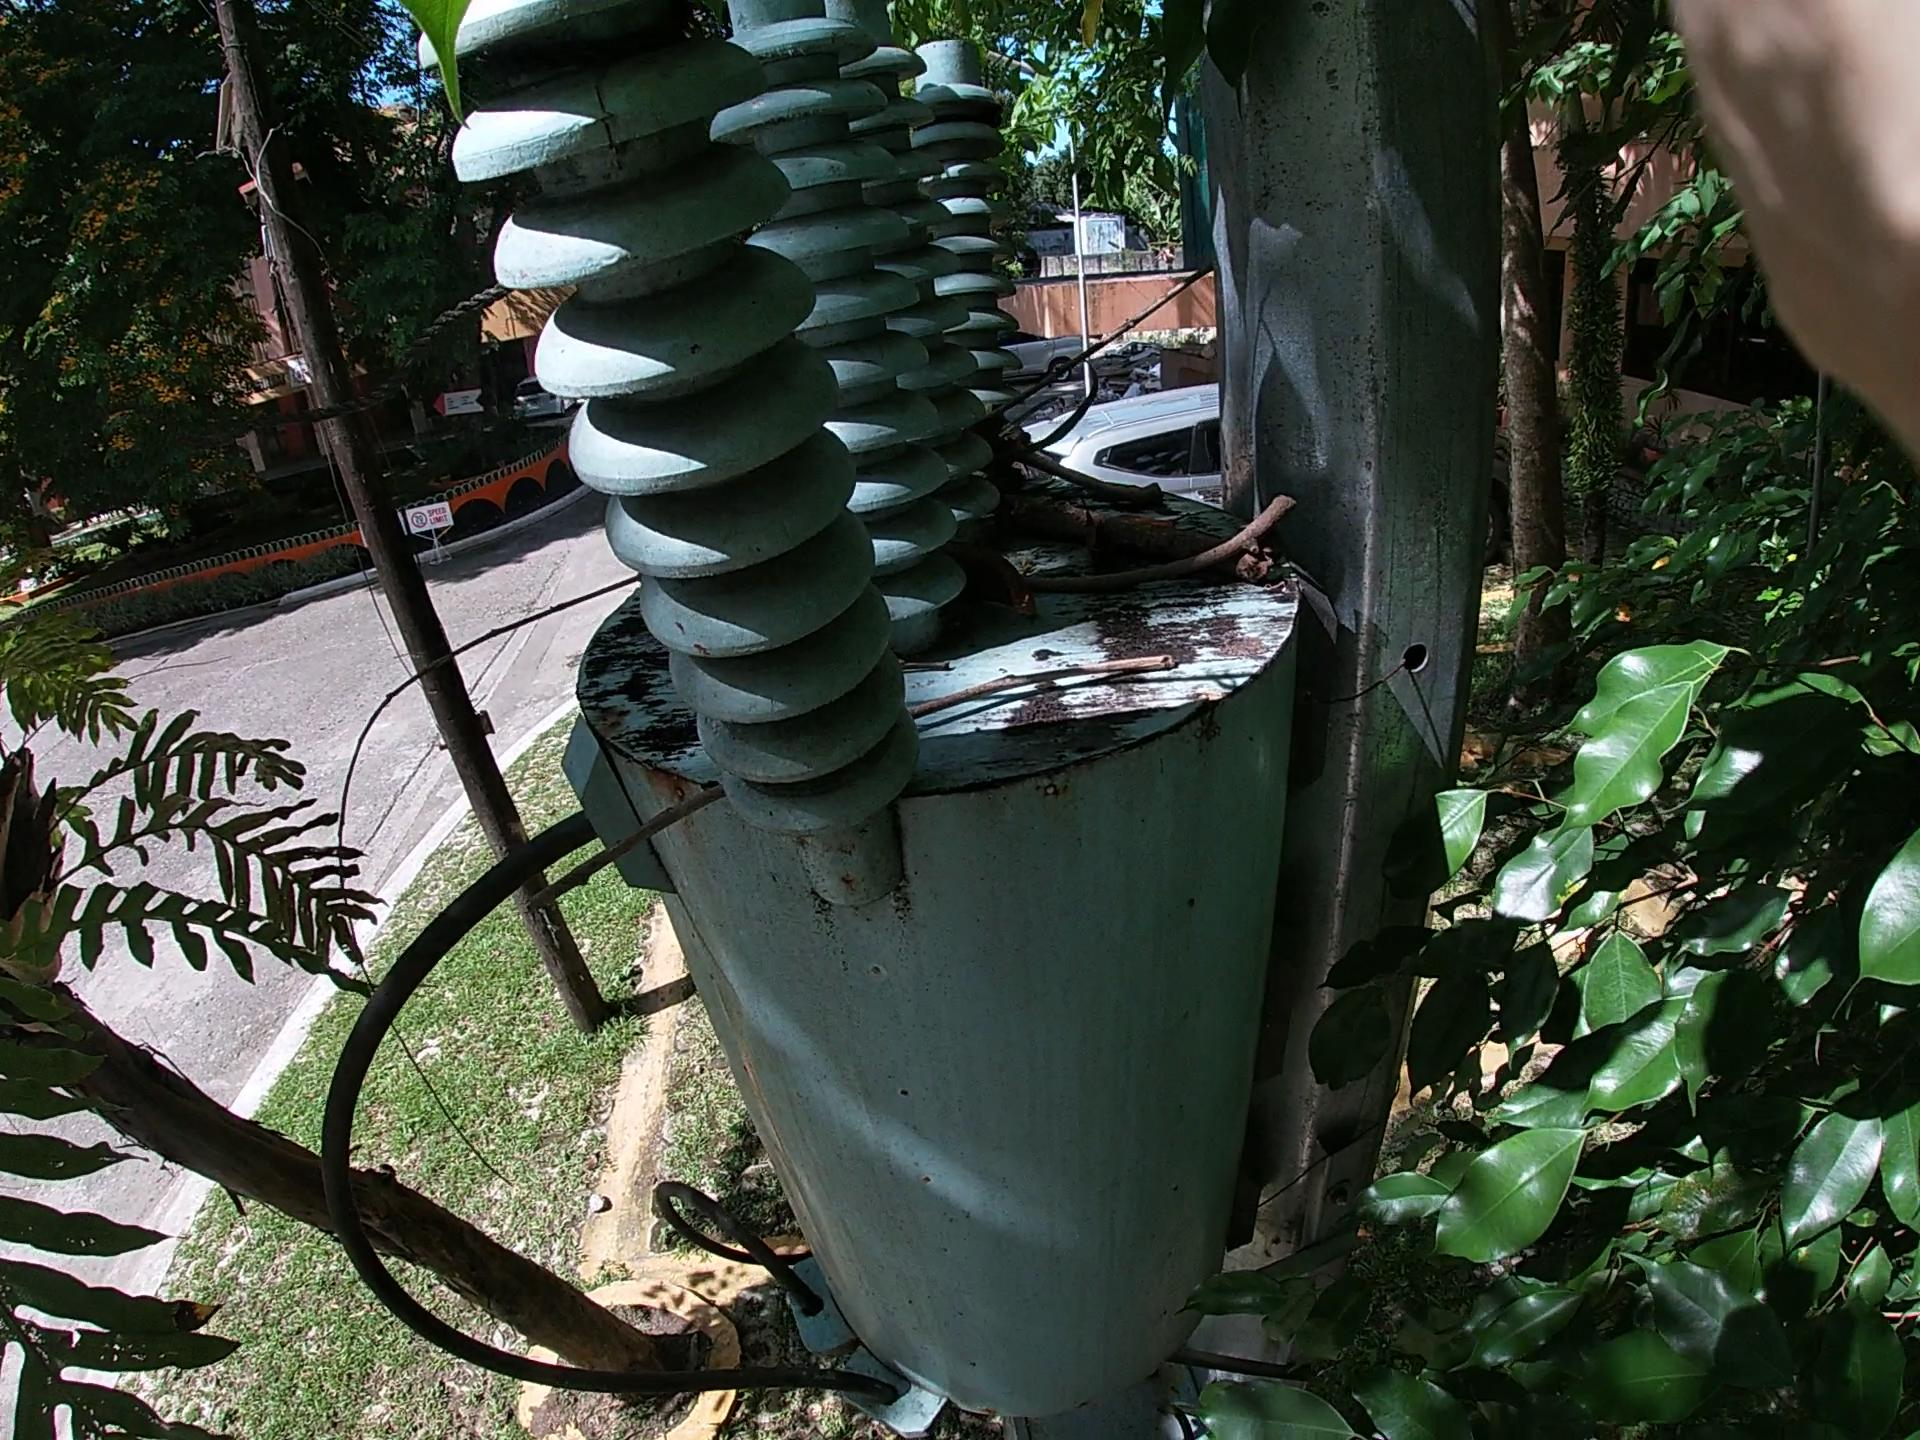leaf: (1039, 455, 1203, 585)
tree branch: (509, 678, 1045, 923), (943, 206, 1228, 535), (980, 483, 1265, 629), (954, 393, 1144, 514)
